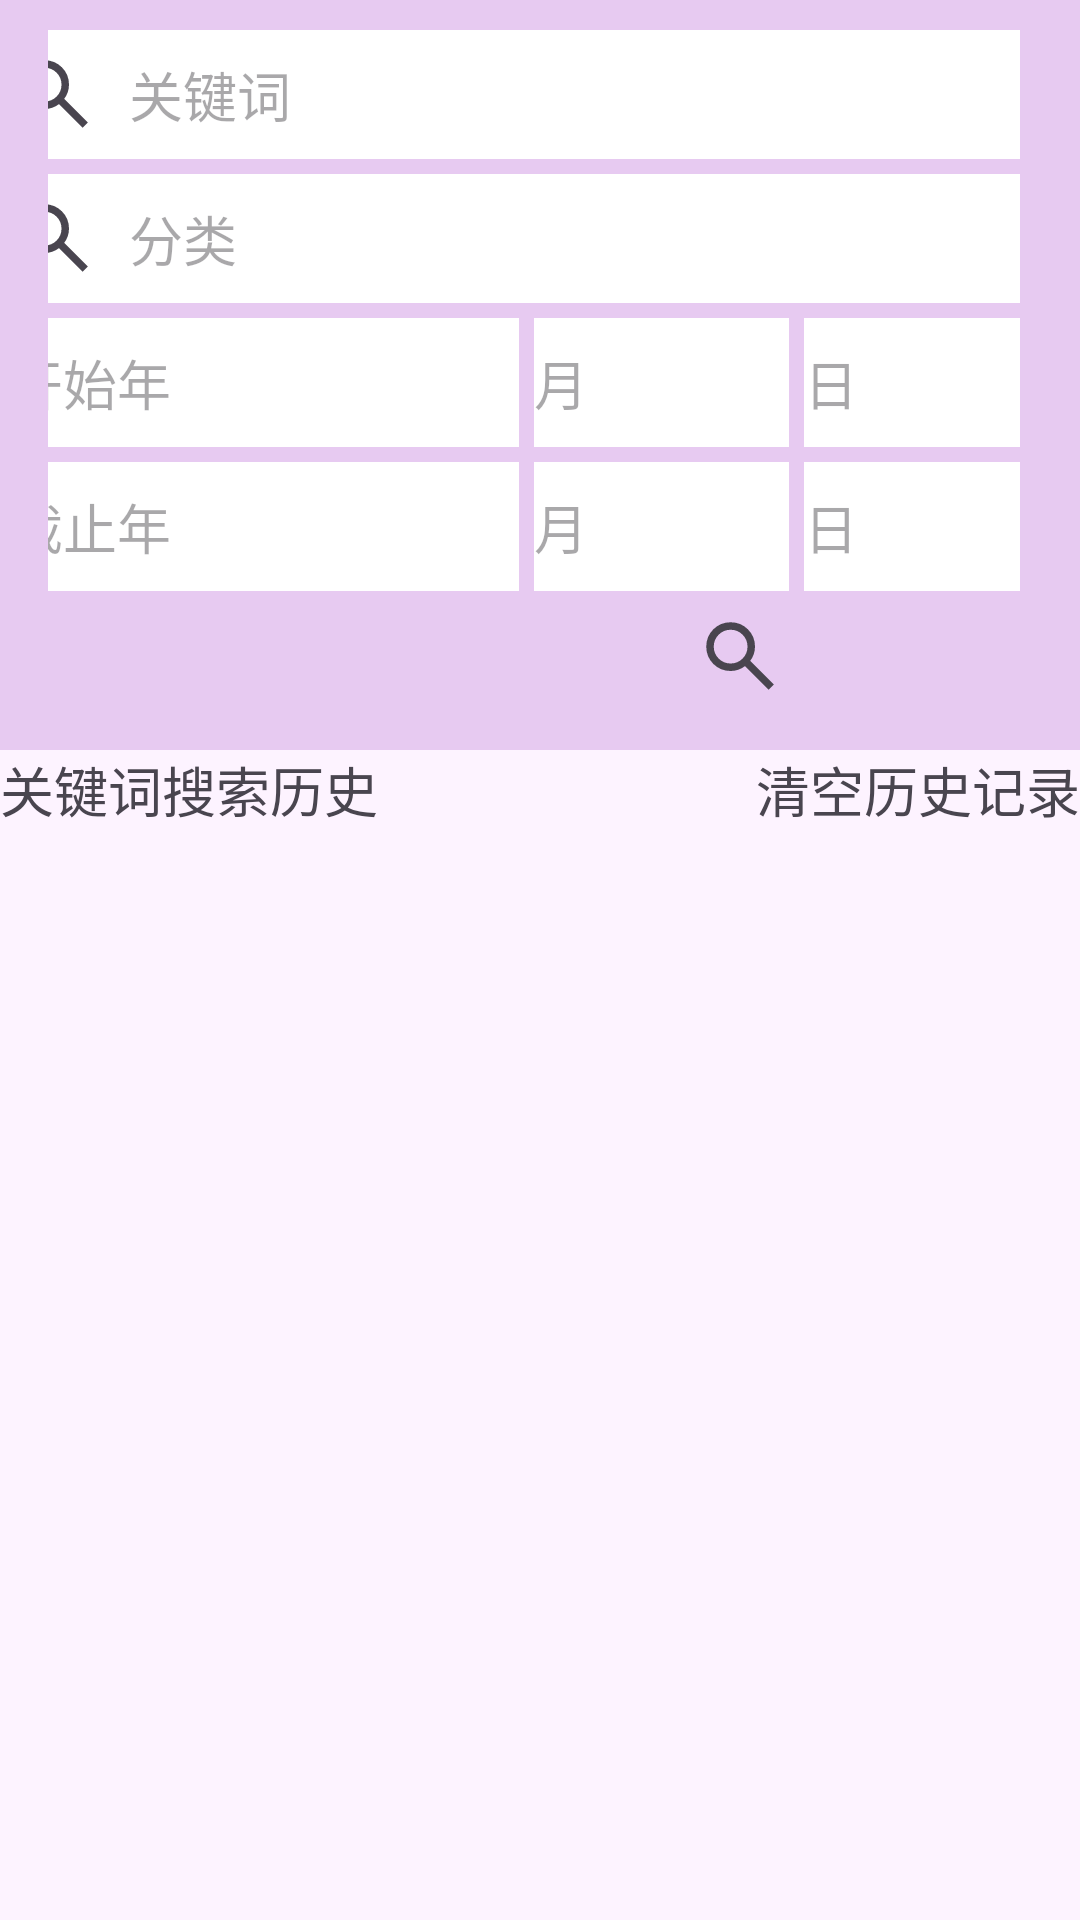

Screen size 1080px x 1920px. Icon name, then its box in pixels as (x1, y1, x2, y2):
search: (706, 622, 774, 690)
